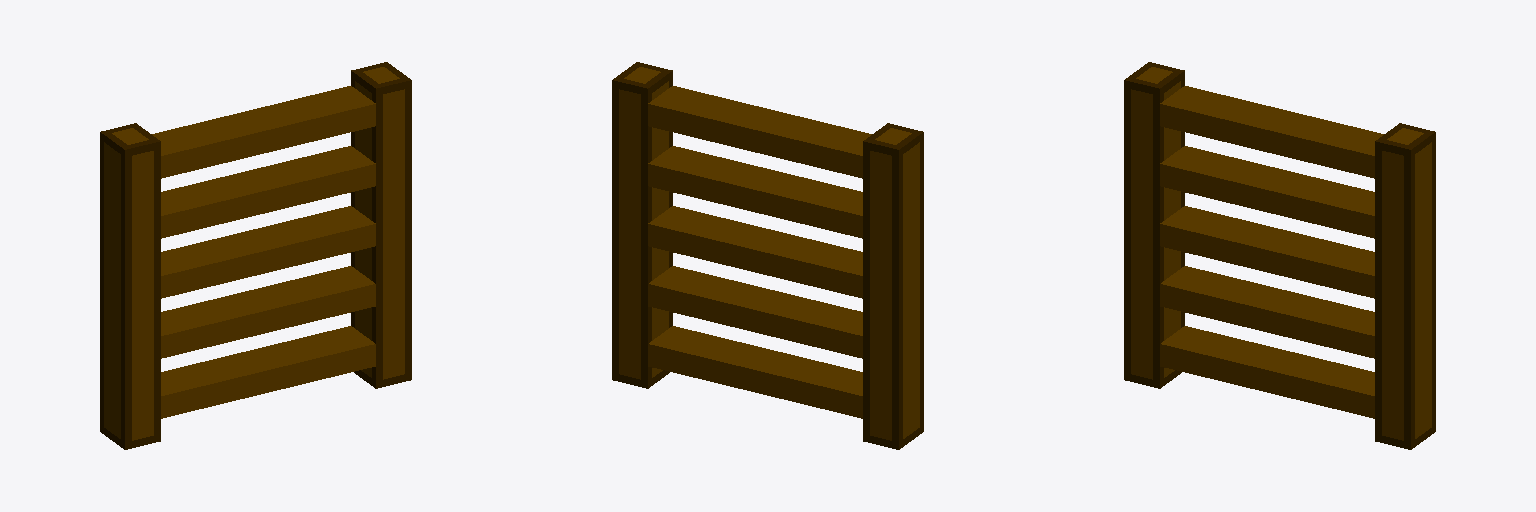
3 views of the same model, side by side, from view 1: azimuth 30°, elevation 25°; view 2: azimuth 150°, elevation 25°; view 3: azimuth 330°, elevation 25° (orthographic).
Parts seen in each view (by area): view 1: object 1; view 2: object 1; view 3: object 1.
Part boxes in pixels (x1,y1,x2,y2): object 1: (100, 62, 411, 449); object 1: (612, 62, 923, 449); object 1: (1124, 62, 1435, 449).
Size of the model in its own units: 4 by 4 by 0.6.
Materials: 1 (1 with a texture image).